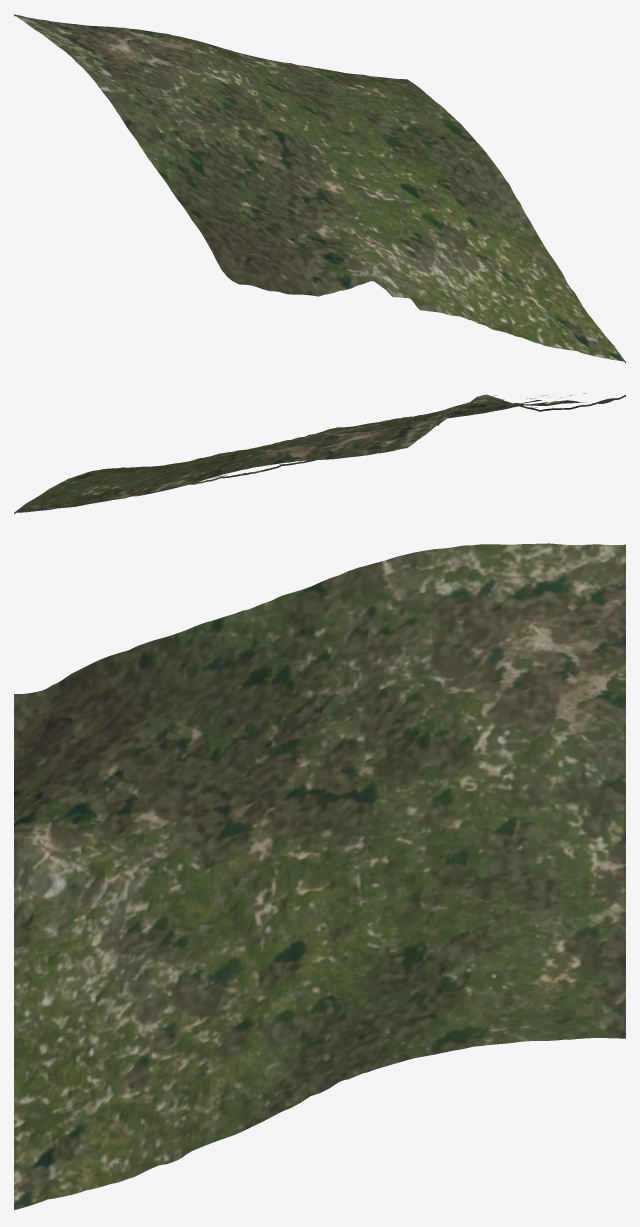
3 renders of one model, top to bottom at view 1: azimuth 30°, elevation 25°; view 2: azimuth 150°, elevation 25°; view 3: azimuth 270°, elevation 25°, orthographic. The views are drawn at different scales.
Size of the model in its own units: 250 by 174 by 241.
1 material, 1 textured.
